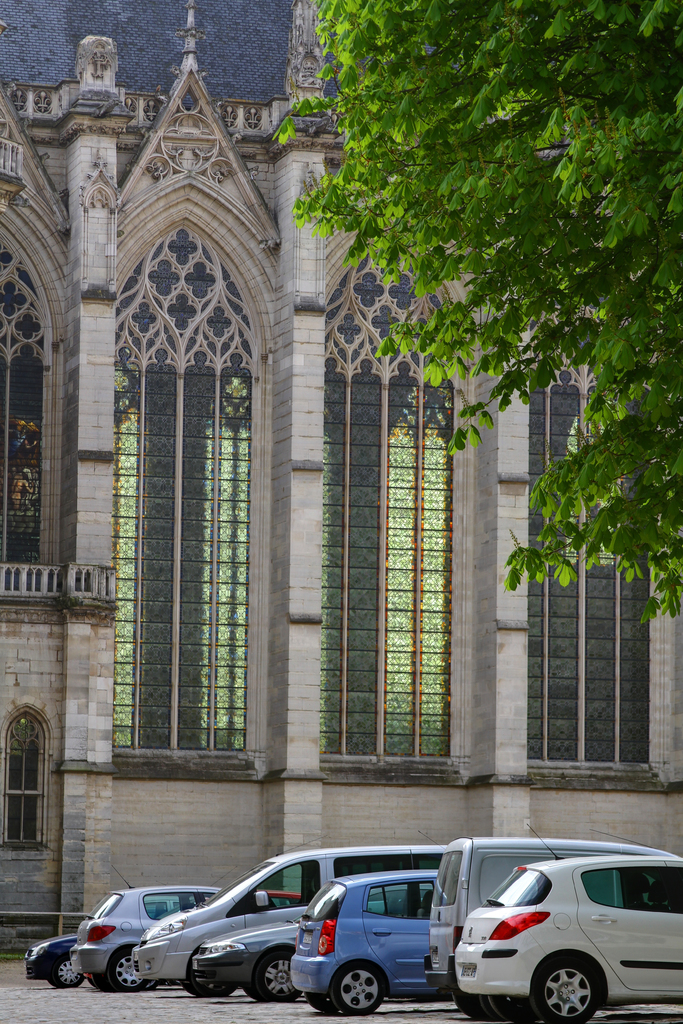Car: (22, 824, 671, 1015)
